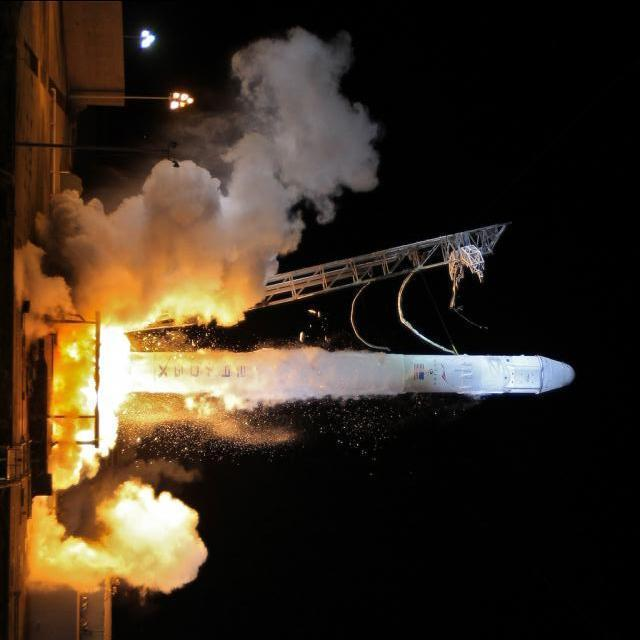missile: (112, 343, 577, 427)
